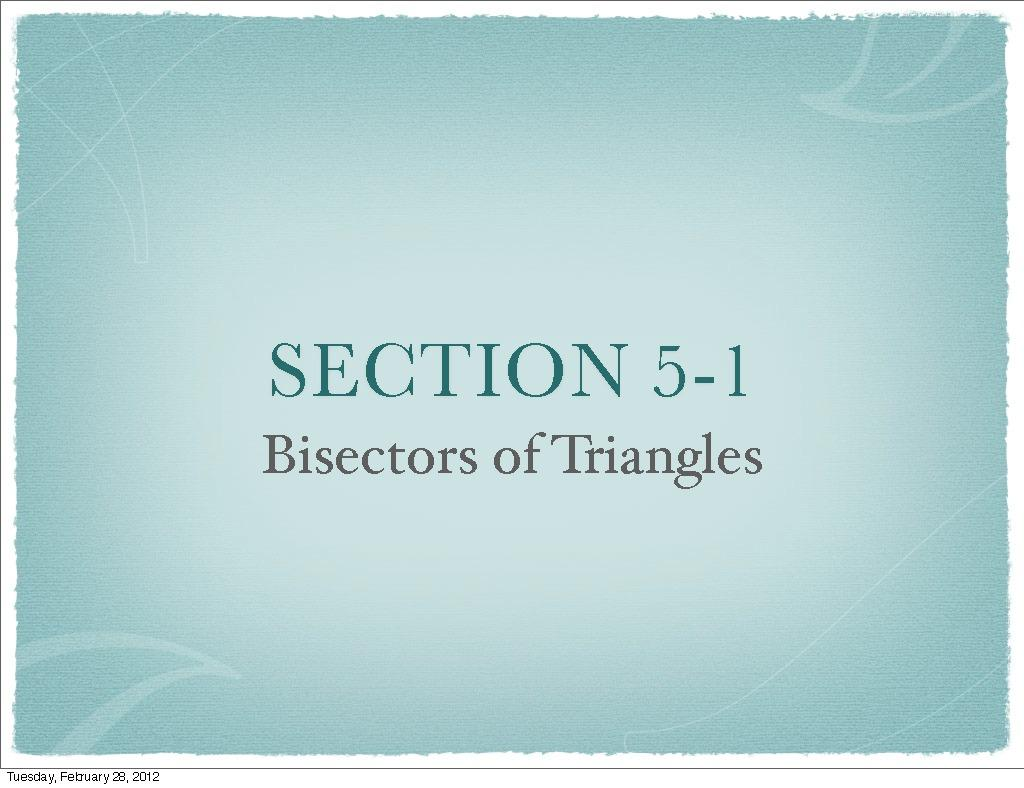title: (253, 305, 811, 511)
